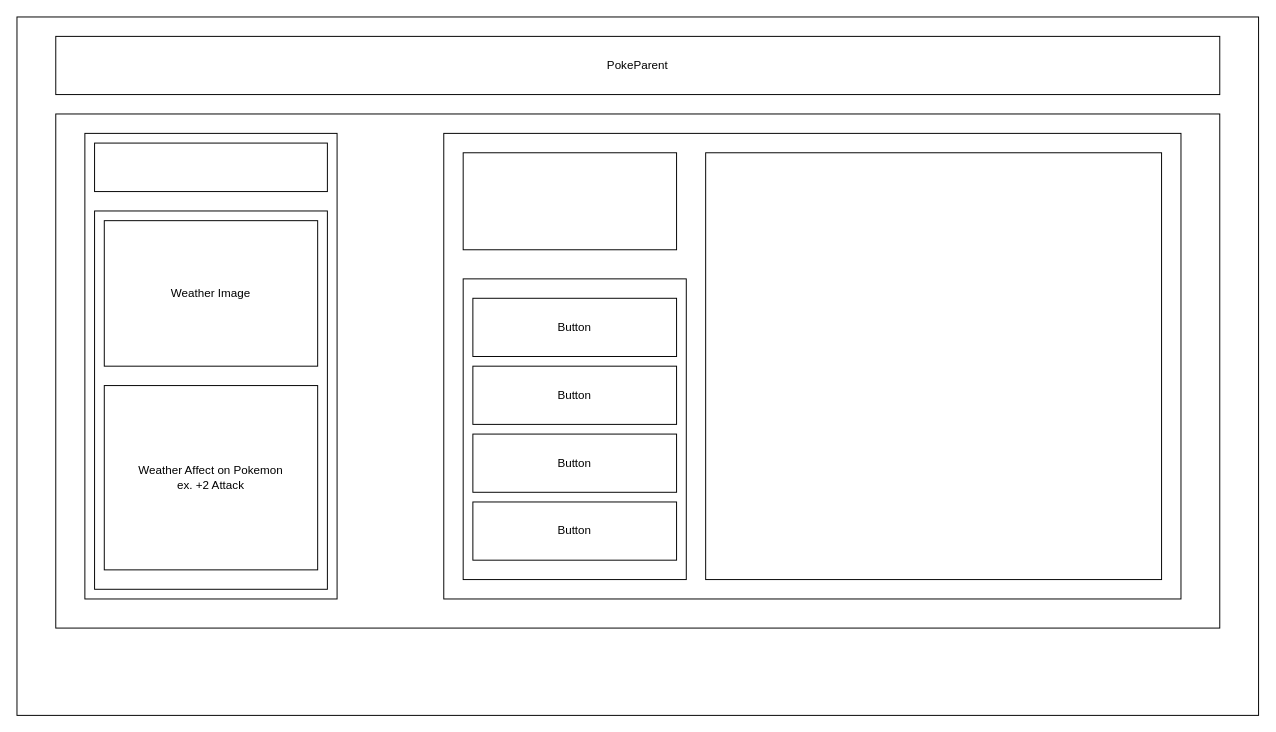
Image size: 1276x732. Some labels were removed from this diagram. The shapes that lost their labels are listed below. From the top down, each one's centre as x and y in pixels, then its label:
At (210,167): "City Weather".
At (569,201): "Health/Mood".
At (933,366): "Image of Pokemon".
